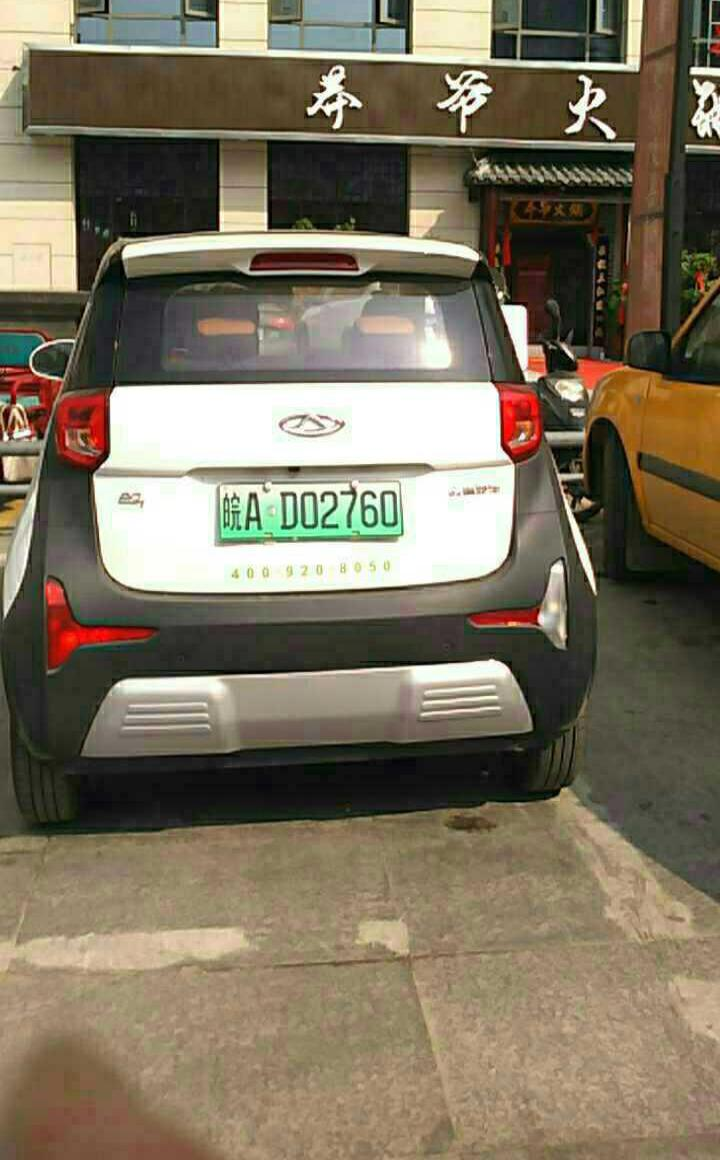car: (215, 482, 409, 536)
